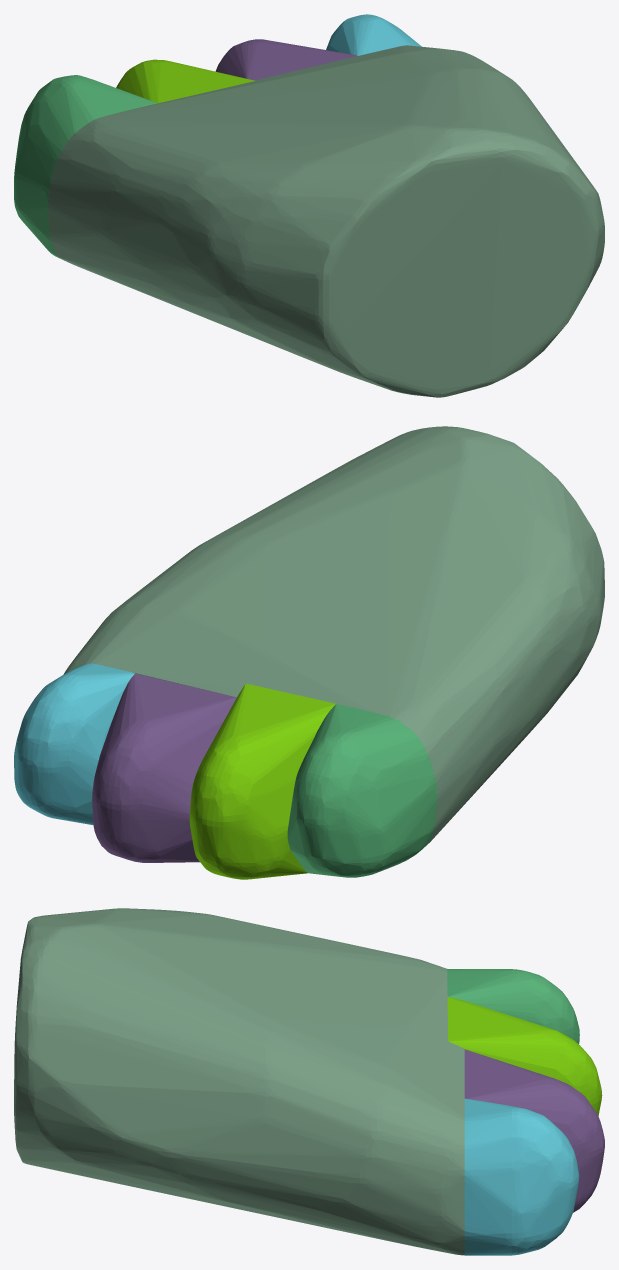
Rendered from FB_palm_ref_MIR.obj.
3 views of the same model, one above another, from view 1: azimuth 30°, elevation 25°; view 2: azimuth 150°, elevation 25°; view 3: azimuth 270°, elevation 25° (orthographic). The views are drawn at different scales.
Parts seen in each view (by area): view 1: geometry_0, geometry_3, geometry_4, geometry_1, geometry_2; view 2: geometry_0, geometry_3, geometry_4, geometry_1, geometry_2; view 3: geometry_0, geometry_2, geometry_1, geometry_4, geometry_3.
Part boxes in pixels (bbox=[...]): geometry_0: bbox=[48, 45, 604, 397]; geometry_3: bbox=[14, 75, 157, 260]; geometry_4: bbox=[116, 59, 255, 103]; geometry_1: bbox=[215, 39, 356, 80]; geometry_2: bbox=[326, 14, 421, 55]; geometry_0: bbox=[63, 426, 604, 842]; geometry_3: bbox=[287, 704, 437, 877]; geometry_4: bbox=[189, 684, 335, 879]; geometry_1: bbox=[92, 673, 236, 862]; geometry_2: bbox=[14, 663, 134, 825]; geometry_0: bbox=[14, 908, 464, 1255]; geometry_2: bbox=[464, 1098, 579, 1255]; geometry_1: bbox=[464, 1049, 604, 1212]; geometry_4: bbox=[447, 997, 602, 1115]; geometry_3: bbox=[447, 969, 579, 1043].
Bounding box in the file's own units: 0.0838 × 0.0552 × 0.1127.
